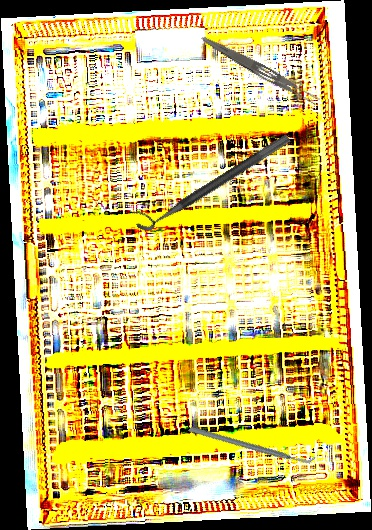Chopper: (188, 384, 316, 504)
Dressing Forceps: (197, 33, 323, 109)
Fixation Ring: (129, 121, 292, 236)
